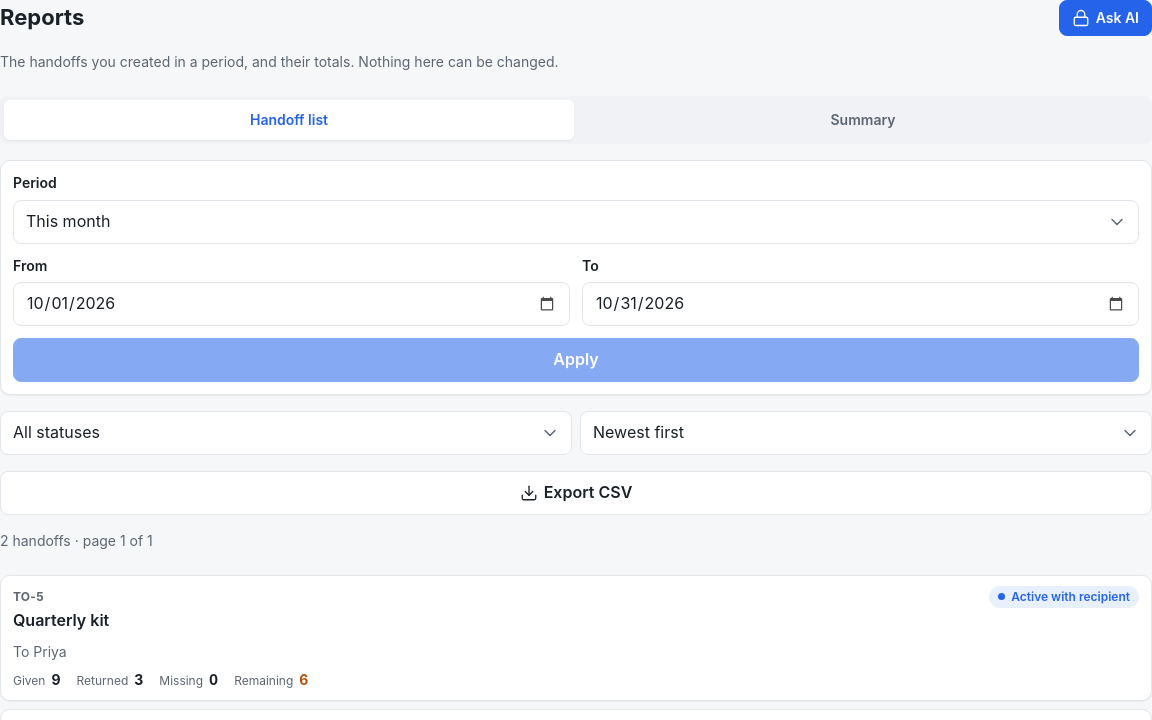
AI Report Assistant › is locked, with the plan message, on a plan without HandoffCheck, and asks nothing
Expected: the heading "Quarterly kit" is shown, [13, 610, 109, 630]
Click the button "Ask AI".
click(1105, 18)  # box [1059, 0, 1151, 36]
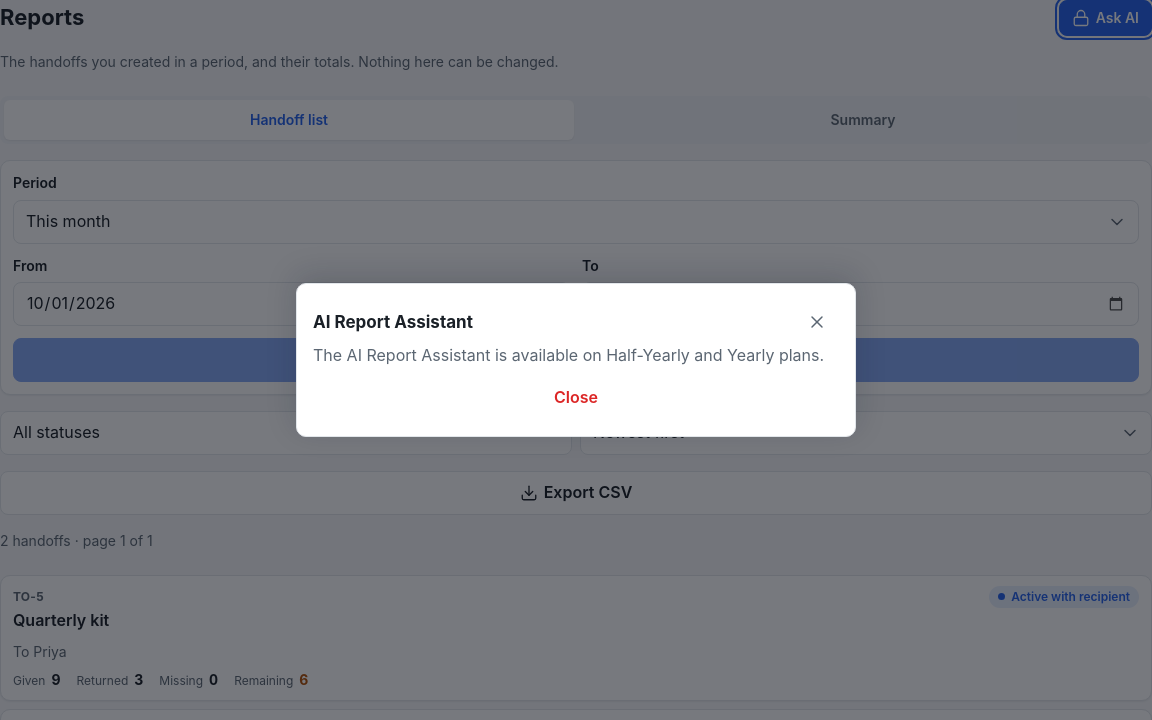
Now the text "The AI Report Assistant is available on Half-Yearly and Yearly plans." is shown, box [313, 344, 839, 368]
